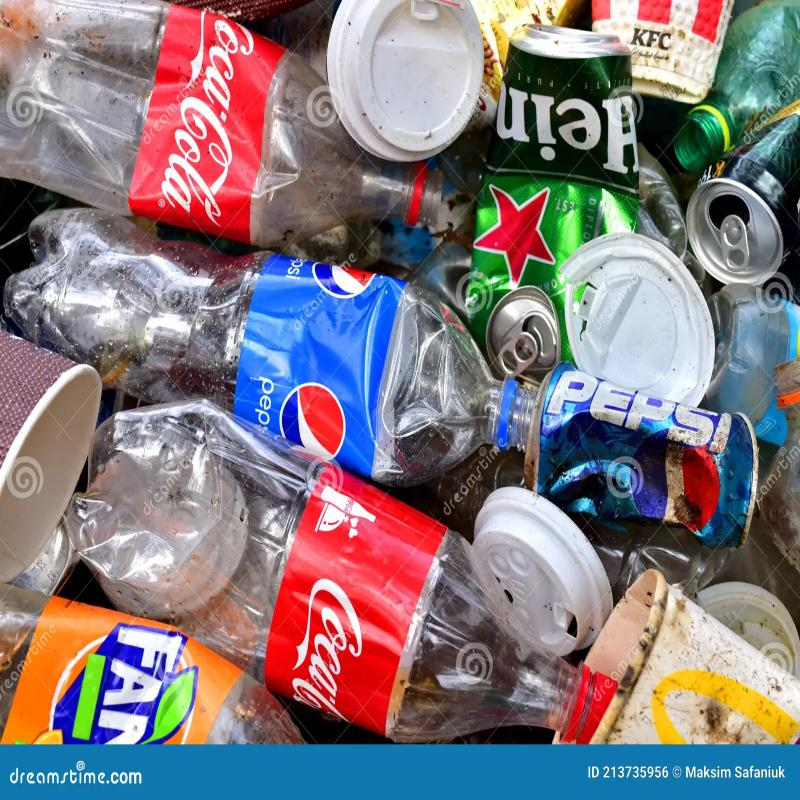botella: (57, 384, 624, 741), (0, 196, 547, 474), (0, 0, 451, 255), (0, 577, 311, 740), (666, 0, 800, 178)
